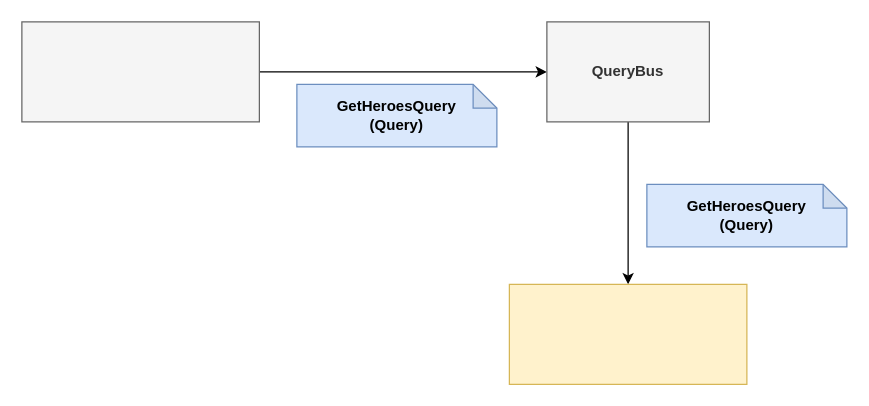
This 869x406 diagram has some shape labels left out. The shapes that lost their labels are listed below. From the top down, each one's centre as x and y in pixels, then its label:
At pixel 140 71: "HeroesGameService".
At pixel 627 333: "GetHeroesHandler (QueryHandler)".
